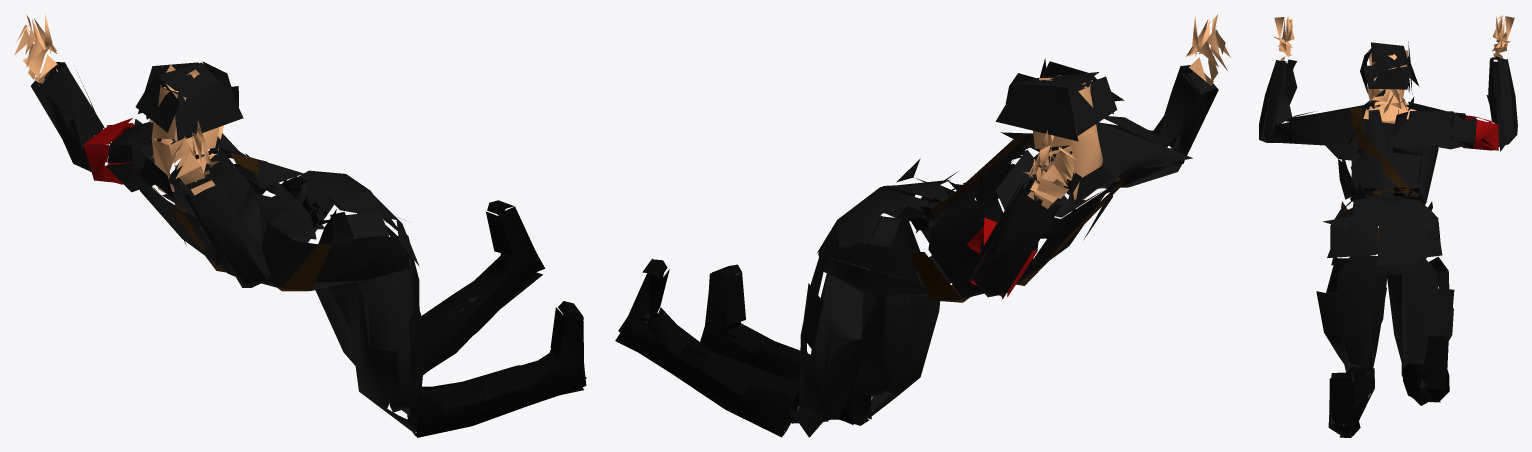
Rendered from dead_sol_curled.glb.
3 views of the same model, side by side, from view 1: azimuth 30°, elevation 25°; view 2: azimuth 150°, elevation 25°; view 3: azimuth 270°, elevation 25° (orthographic). The views are drawn at different scales.
Visible parts, largest first — view 1: Soldier_1, Helmet; view 2: Soldier_1, Helmet; view 3: Soldier_1, Helmet.
Boxes of the visible parts, x1=… form: Soldier_1: x1=14, y1=14, x2=586, y2=437; Helmet: x1=135, y1=61, x2=243, y2=140; Soldier_1: x1=615, y1=14, x2=1230, y2=437; Helmet: x1=995, y1=58, x2=1124, y2=141; Soldier_1: x1=1259, y1=15, x2=1517, y2=437; Helmet: x1=1360, y1=41, x2=1418, y2=94.
Size of the model in its own units: 1.33 by 1.1 by 0.8883.
1 material, 1 textured.
